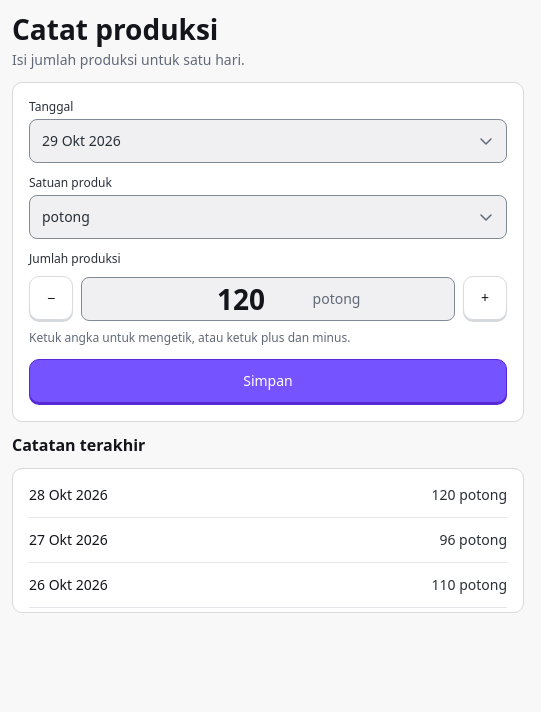
Test: ProduksiPage › forgets the confirmation when the number changes
The image size is (541, 712).
Click the button "Simpan" at [268, 381], box 29,359 -> 507,403
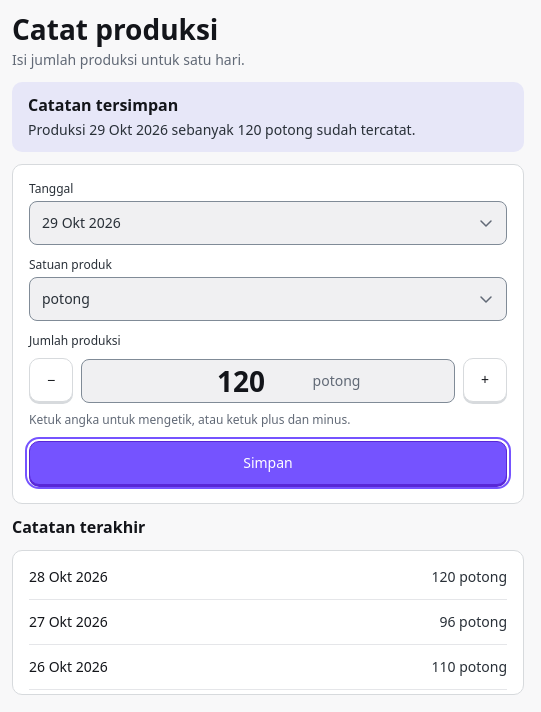
Now the text "Catatan tersimpan" is shown, box 28,94 -> 178,116
Click the button named "Kurangi" at [51, 380], box 29,358 -> 73,402
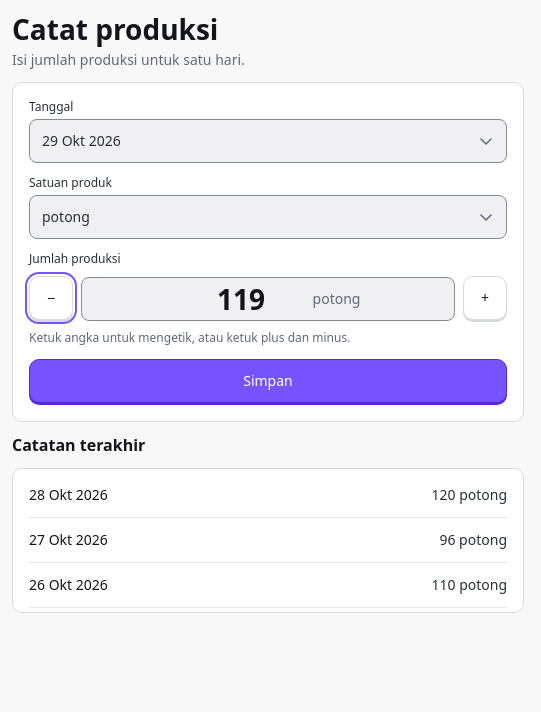
Now the text "Catatan tersimpan" is gone
